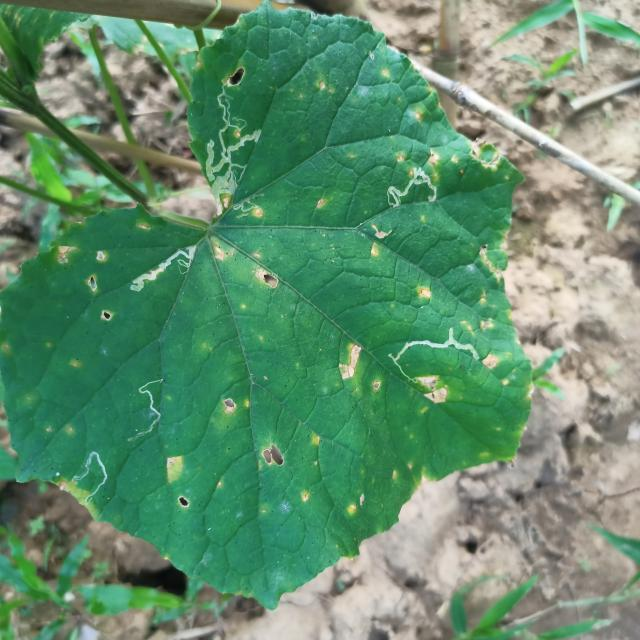disease_cucumber: (211, 208, 282, 291), (254, 439, 319, 521), (53, 242, 114, 326), (458, 246, 507, 342), (424, 128, 504, 180), (482, 347, 536, 396), (163, 454, 194, 513), (412, 373, 450, 417), (333, 340, 368, 387), (363, 220, 395, 264), (218, 390, 253, 420), (478, 245, 503, 282), (262, 443, 284, 466), (223, 67, 244, 88), (416, 376, 440, 392), (56, 246, 76, 263), (371, 224, 390, 238), (427, 152, 439, 166), (70, 359, 82, 368), (370, 244, 379, 256), (415, 110, 423, 122), (222, 198, 230, 208)
